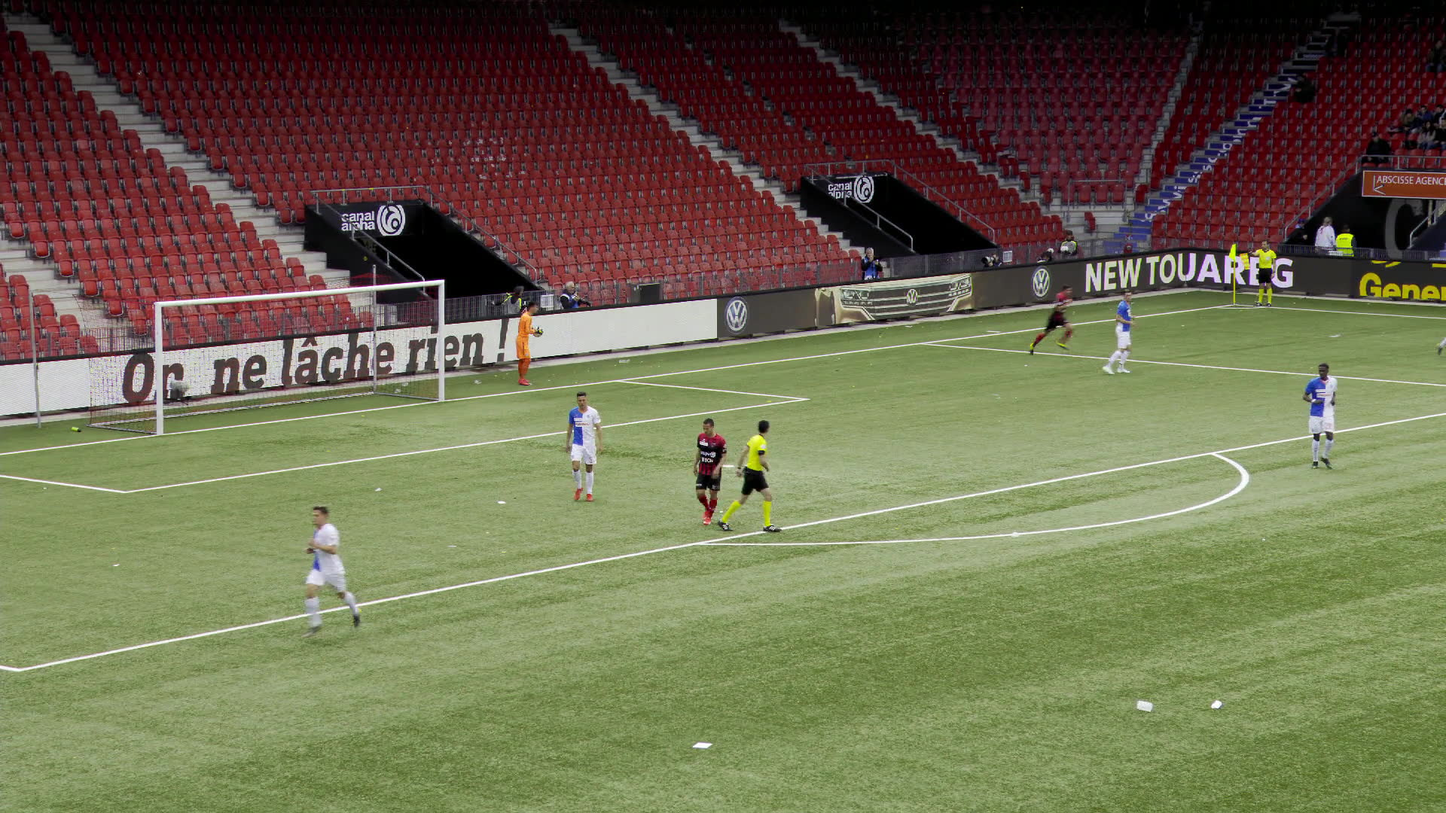ball: (534, 327, 542, 336)
player: (310, 505, 362, 633), (566, 391, 604, 504), (693, 417, 728, 524), (1300, 363, 1335, 468), (1098, 288, 1134, 375), (1027, 286, 1066, 356), (514, 300, 541, 385), (1435, 335, 1445, 357)
referee: (715, 419, 781, 531), (1247, 240, 1276, 306)
